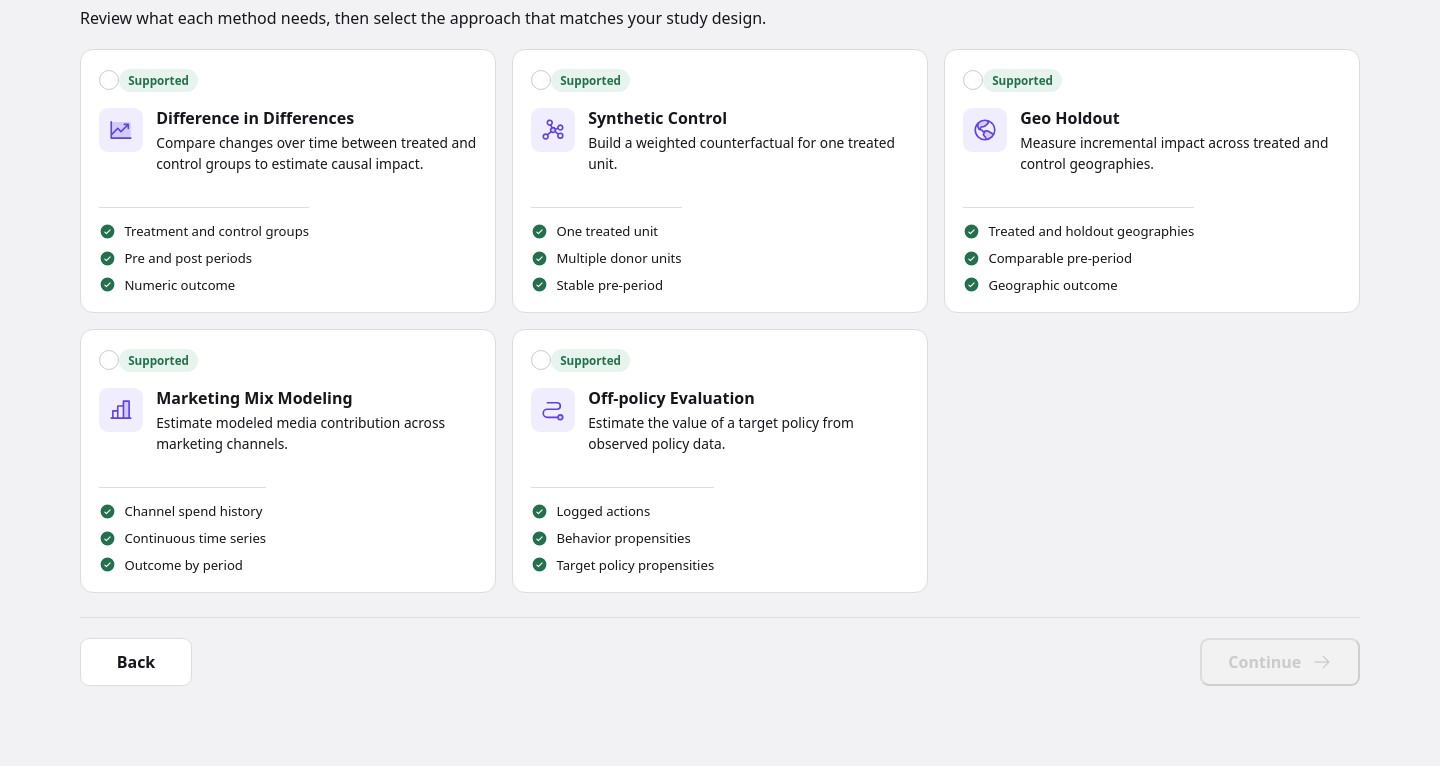
Test: Analysis Configuration estimator selection › does not require an intervention date for Marketing Mix Modeling
(page scrolled)
Click the button "Marketing Mix Modeling" at [159, 360], box [80,329,496,593]
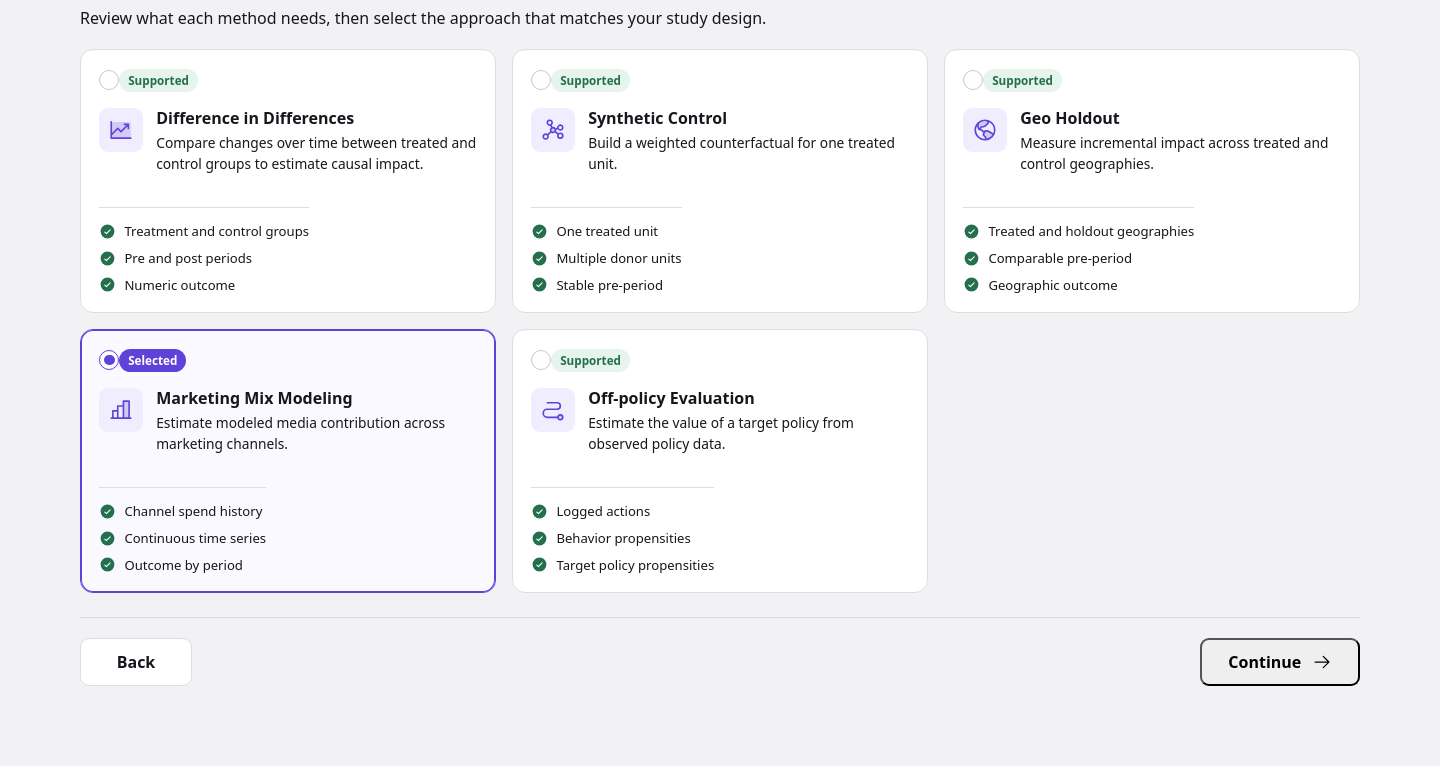
Click the button "Continue" at [1280, 662], box [1200,638,1360,686]
(page scrolled)
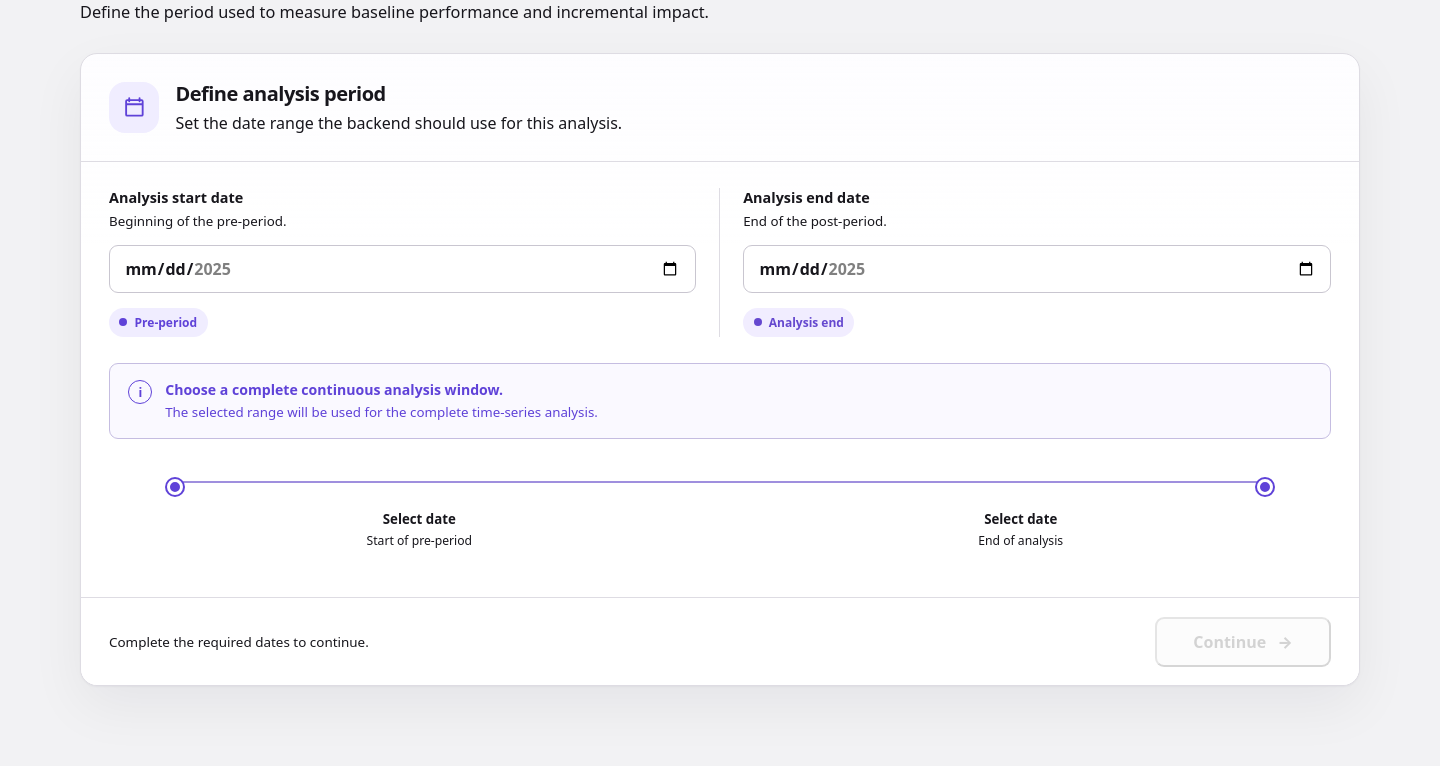
Now the heading "Define analysis period" is shown, box [175,80,386,107]
Now the date field labelled "Analysis start date" is shown, box [109,245,696,293]
Now the date field labelled "Analysis end date" is shown, box [743,245,1331,293]
